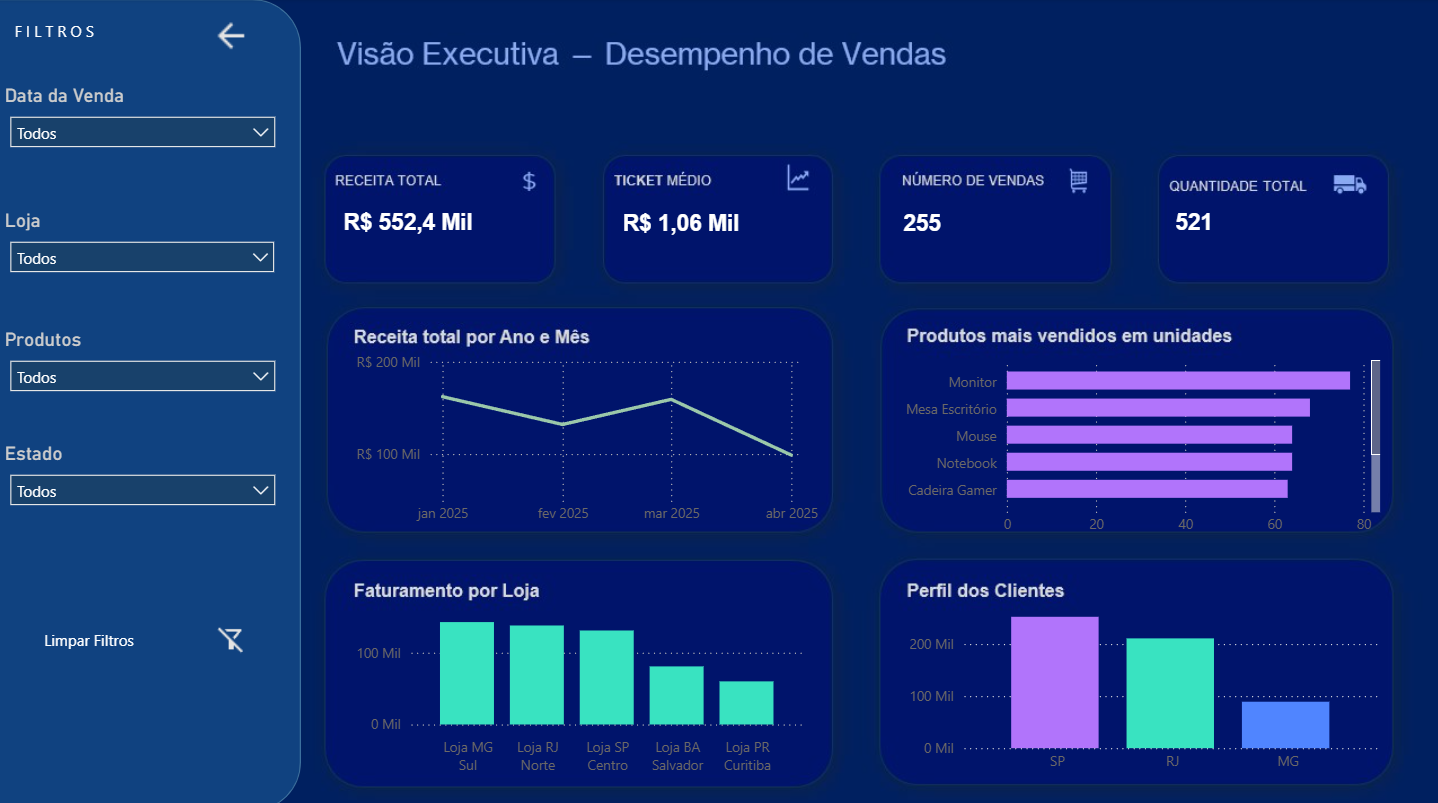

The page's visual inventory and layout, read from the dashboard file:
{"tool":"powerbi","page":{"name":"Página 1","canvas":[1280,720],"ordinal":0},"visuals":[{"type":"card","title":"Receita total","fields":{"Values":["varejo_analise vendas.Receita Total"]},"box":[288.2,170.2,152.5,57.6],"z":0},{"type":"card","title":"TICKET Médio","fields":{"Values":["varejo_analise vendas.TICKET Médio"]},"box":[532,169.4,149,60.3],"z":1000},{"type":"card","title":"Numero de Vendas","fields":{"Values":["varejo_analise vendas.Número de vendas"]},"box":[785.6,173.8,69.2,51.4],"z":2000},{"type":"card","title":"Quantidade Total","fields":{"Values":["varejo_analise vendas.Quantidade Total"]},"box":[1024.1,180,74.5,38.1],"z":3000},{"type":"lineChart","fields":{"Y":["varejo_analise vendas.Receita Total"],"Category":["varejo_analise vendas.data_venda.Variation.Hierarquia de datas.Ano","varejo_analise vendas.data_venda.Variation.Hierarquia de datas.Mês"]},"box":[313,307.7,420.3,166.7],"z":4000},{"type":"barChart","title":"Produtos mais vendidos (em unidades)","fields":{"Category":["varejo_analise produtos.nome_produto"],"Y":["varejo_analise vendas.Quantidade Total"]},"box":[779.4,307.7,452.2,176.5],"z":5000},{"type":"columnChart","title":"Faturamento por Loja”","fields":{"Category":["varejo_analise lojas.nome_loja"],"Y":["Sum(varejo_analise vendas.receita)"]},"box":[313,533.8,407,160.5],"z":6000},{"type":"columnChart","title":"Perfil dos Clientes","fields":{"Category":["varejo_analise clientes.estado"],"Y":["varejo_analise vendas.Receita Total"]},"box":[803.3,533.8,428.3,160.5],"z":7000},{"type":"actionButton","box":[0,202.2,170.2,55],"z":12000}]}

Visuals, with their boxes in screenshot pixels (x1, y1, x2, y2), scaled from the page's 1280x720 canvas onto the 1438x803 screenshot:
"Receita total" card: BBox(324, 190, 495, 254)
"TICKET Médio" card: BBox(598, 189, 765, 256)
"Numero de Vendas" card: BBox(883, 194, 960, 251)
"Quantidade Total" card: BBox(1151, 201, 1234, 243)
lineChart - varejo_analise vendas.Receita Total x varejo_analise vendas.data_venda.Variation.Hierarquia de datas.Ano: BBox(352, 343, 824, 529)
"Produtos mais vendidos (em unidades)" barChart: BBox(876, 343, 1384, 540)
"Faturamento por Loja”" columnChart: BBox(352, 595, 809, 774)
"Perfil dos Clientes" columnChart: BBox(902, 595, 1384, 774)
actionButton: BBox(0, 226, 191, 287)
